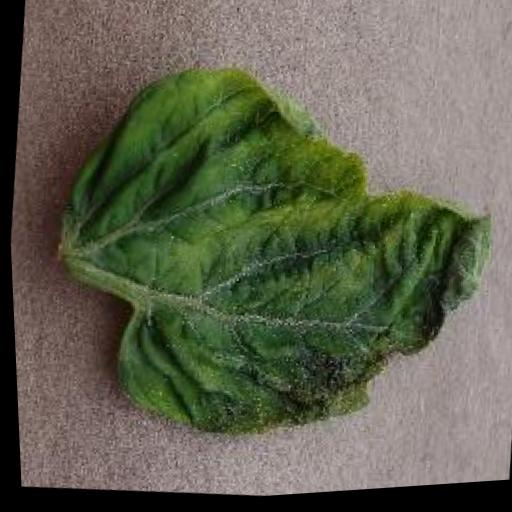Yellow Leaf Curl Virus: (32, 42, 512, 471)
